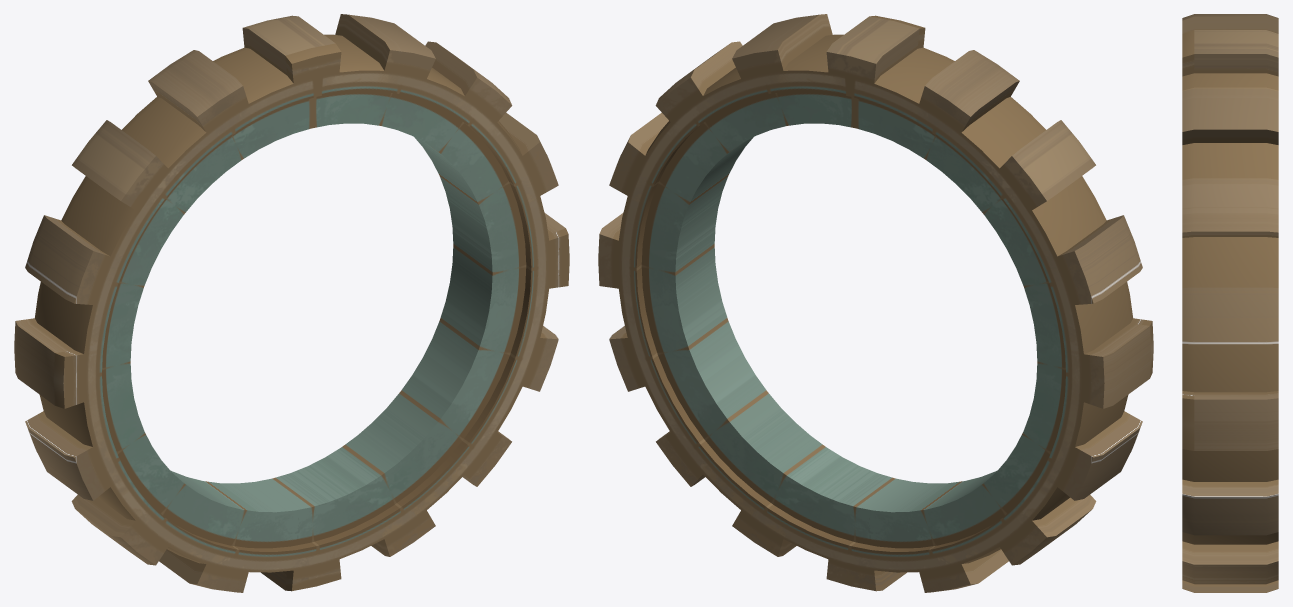
Rendered from EgyptianGear.fbx.
The picture shows the model from 3 angles, left to right: view 1: azimuth 30°, elevation 25°; view 2: azimuth 150°, elevation 25°; view 3: azimuth 270°, elevation 25°; orthographic projection. The views are drawn at different scales.
Parts seen in each view (by area): view 1: Circle; view 2: Circle; view 3: Circle.
Part boxes in pixels (x1=…): Circle: x1=14, y1=14, x2=569, y2=592; Circle: x1=598, y1=14, x2=1153, y2=592; Circle: x1=1182, y1=14, x2=1278, y2=592.
Size of the model in its own units: 6593 by 6593 by 1095.
Materials: 1 (1 with a texture image).
